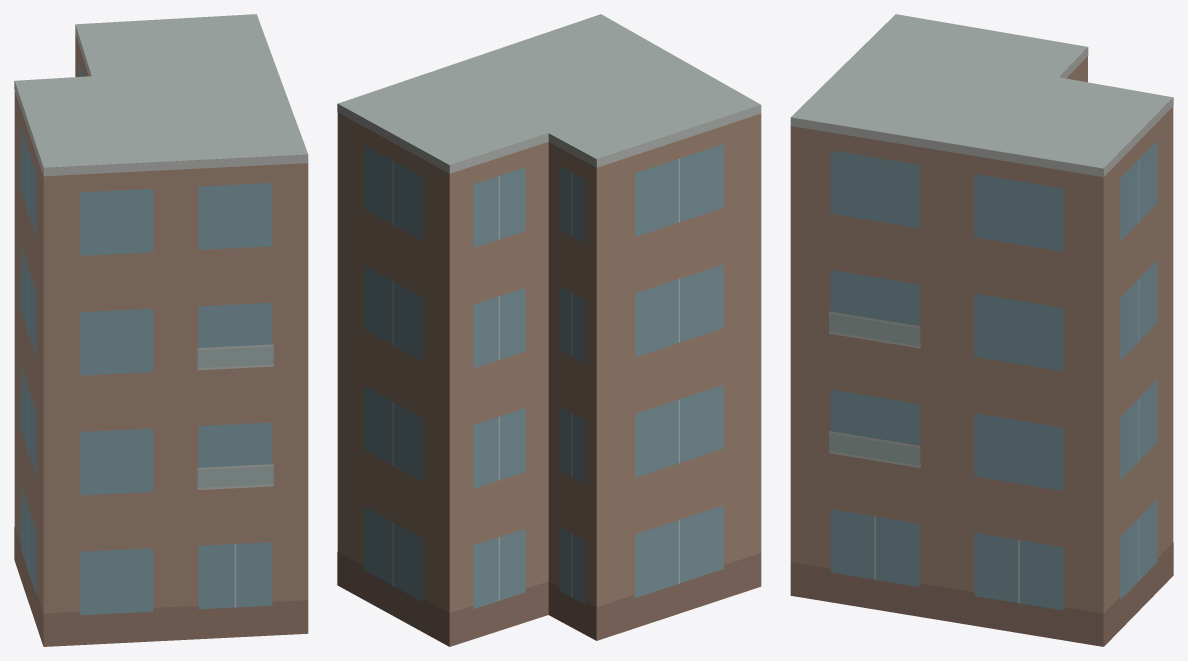
The model's file is survey-upis-32497234.glb.
3 renders of one model, left to right at view 1: azimuth 30°, elevation 25°; view 2: azimuth 150°, elevation 25°; view 3: azimuth 270°, elevation 25°, orthographic.
Visible parts, largest first — view 1: survey-upis-32497234.tmp; view 2: survey-upis-32497234.tmp; view 3: survey-upis-32497234.tmp.
Part boxes in pixels (<box>): survey-upis-32497234.tmp: <box>14,14,308,646</box>; survey-upis-32497234.tmp: <box>337,14,761,646</box>; survey-upis-32497234.tmp: <box>790,14,1173,646</box>.
Bounding box in the file's own units: 9.44 × 13.6 × 9.87.
